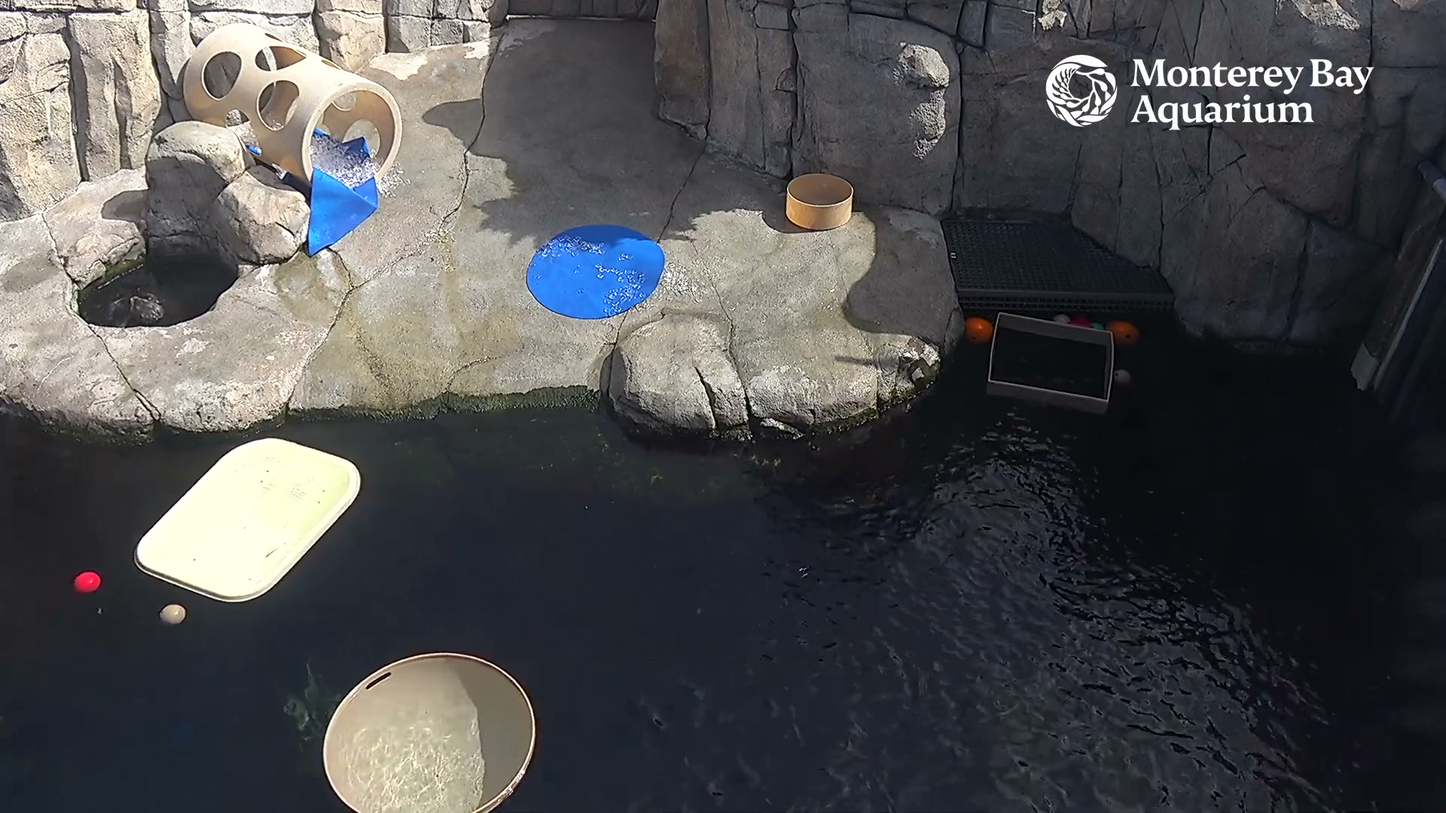Southern Sea Otter: (123, 287, 186, 322)
